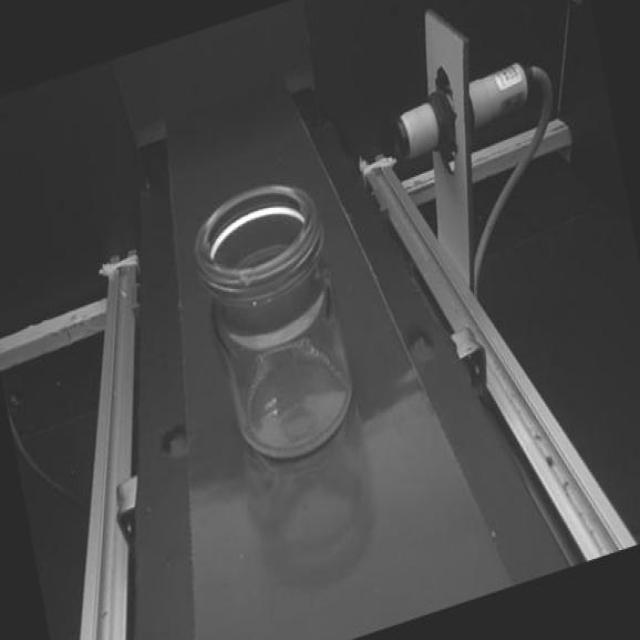defect: (238, 270, 255, 289), (250, 300, 258, 308)
glass: (185, 166, 363, 478)
